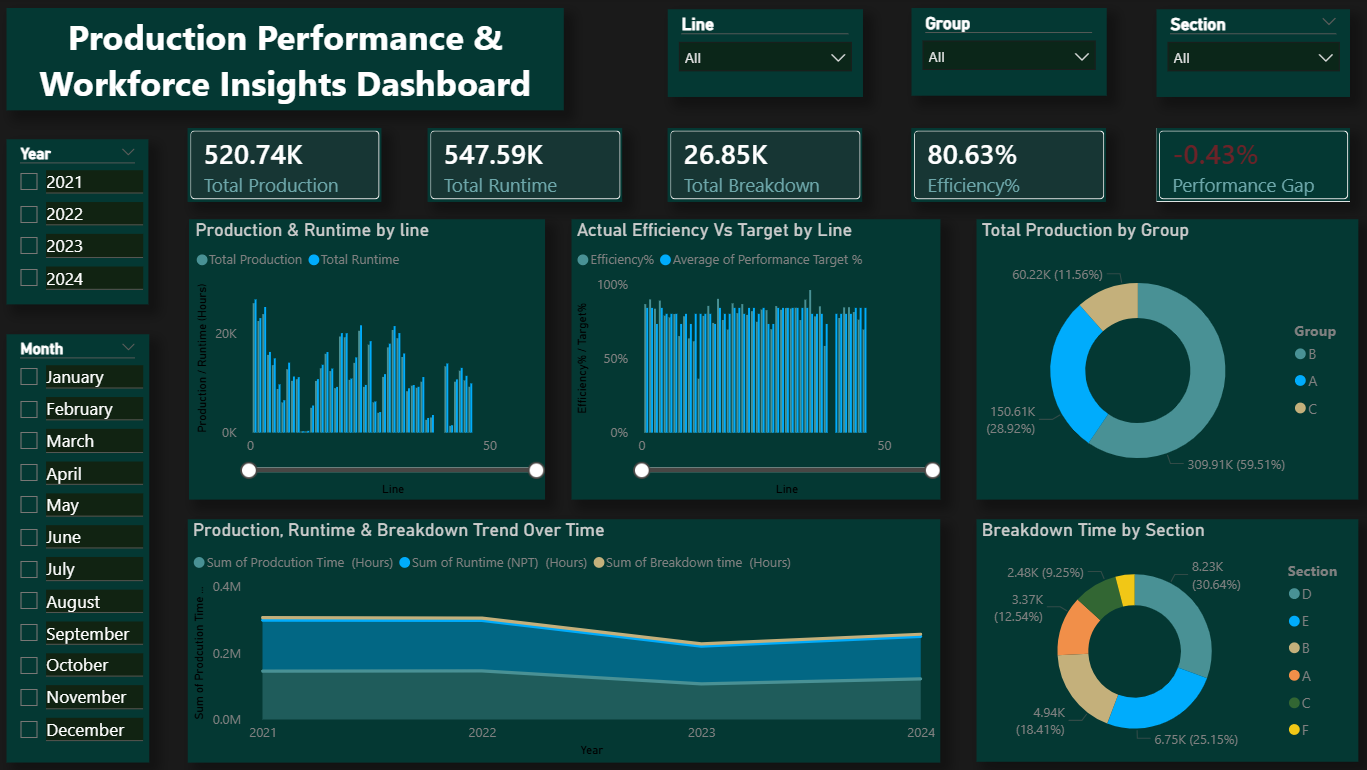

The page's visual inventory and layout, read from the dashboard file:
{"tool":"powerbi","page":{"name":"Page 1","canvas":[1280,720],"ordinal":0},"visuals":[{"type":"textbox","box":[11.2,8.8,518.8,95],"z":0},{"type":"cardVisual","fields":{"Data":["Data.Total Production"]},"box":[180,121.2,180,68.8],"z":1000},{"type":"cardVisual","fields":{"Data":["Data.Total Runtime"]},"box":[403.3,121.1,181.1,68.9],"z":2000},{"type":"cardVisual","fields":{"Data":["Data.Efficiency%"]},"box":[853.3,121.1,181.1,68.9],"z":3000},{"type":"cardVisual","fields":{"Data":["Data.Total Breakdown"]},"box":[626.7,121.1,181.1,68.9],"z":4000},{"type":"cardVisual","fields":{"Data":["Data.Performance Gap"]},"box":[1081.1,121.1,180,68.9],"z":5000},{"type":"clusteredColumnChart","title":"Production & Runtime by line","fields":{"Category":["Data.Line"],"Y":["Data.Total Production","Data.Total Runtime"]},"box":[181,205.6,331.1,261],"z":6000},{"type":"clusteredColumnChart","title":"Actual Efficiency Vs Target by Line","fields":{"Category":["Data.Line"],"Y":["Data.Efficiency%","Avg(Data.Performance Target %)"]},"box":[537.8,205.6,343.3,261.1],"z":7000},{"type":"donutChart","fields":{"Category":["Groups.Group"],"Y":["Data.Total Production"]},"box":[914.4,205.6,355.6,261.1],"z":8000},{"type":"donutChart","title":"Breakdown Time by Section","fields":{"Category":["Section.Section"],"Y":["Data.Total Breakdown"]},"box":[914.4,484.4,355.6,225.6],"z":9000},{"type":"stackedAreaChart","title":"Production, Runtime & Breakdown Trend Over Time","fields":{"Category":["Data.Calendar day.Variation.Date Hierarchy.Year","Data.Calendar day.Variation.Date Hierarchy.Quarter","Data.Calendar day.Variation.Date Hierarchy.Month","Data.Calendar day.Variation.Date Hierarchy.Day"],"Y":["Sum(Data.Prodcution Time  (Hours))","Sum(Data.Runtime (NPT)  (Hours))","Sum(Data.Breakdown time  (Hours))"]},"box":[180,485,700,226.2],"z":10000},{"type":"slicer","fields":{"Values":["Data.Line"]},"box":[626.2,10,181.2,81.2],"z":11000},{"type":"slicer","fields":{"Values":["Groups.Group"]},"box":[853.8,8.8,181.2,81.2],"z":12000},{"type":"slicer","fields":{"Values":["Data.Month Name"]},"box":[11.2,312.5,132.5,398.8],"z":13000},{"type":"slicer","fields":{"Values":["Data.Calendar day.Variation.Date Hierarchy.Year"]},"box":[11.7,131.2,132.3,153.6],"z":14000},{"type":"slicer","fields":{"Values":["Section.Section"]},"box":[1081.2,10,180,81.2],"z":15000}]}

Visuals, with their boxes in screenshot pixels (x1, y1, x2, y2), scaled from the page's 1280x720 canvas onto the 1367x770 screenshot:
textbox: rect(12, 9, 566, 111)
cardVisual - Data.Total Production: rect(192, 130, 384, 203)
cardVisual - Data.Total Runtime: rect(431, 130, 624, 203)
cardVisual - Data.Efficiency%: rect(911, 130, 1105, 203)
cardVisual - Data.Total Breakdown: rect(669, 130, 863, 203)
cardVisual - Data.Performance Gap: rect(1155, 130, 1347, 203)
"Production & Runtime by line" clusteredColumnChart: rect(193, 220, 547, 499)
"Actual Efficiency Vs Target by Line" clusteredColumnChart: rect(574, 220, 941, 499)
donutChart - Groups.Group x Data.Total Production: rect(977, 220, 1356, 499)
"Breakdown Time by Section" donutChart: rect(977, 518, 1356, 759)
"Production, Runtime & Breakdown Trend Over Time" stackedAreaChart: rect(192, 519, 940, 761)
slicer - Data.Line: rect(669, 11, 862, 98)
slicer - Groups.Group: rect(912, 9, 1105, 96)
slicer - Data.Month Name: rect(12, 334, 153, 761)
slicer - Data.Calendar day.Variation.Date Hierarchy.Year: rect(12, 140, 154, 305)
slicer - Section.Section: rect(1155, 11, 1347, 98)
